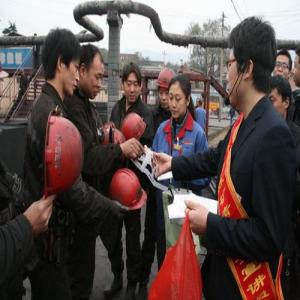none: (224, 14, 278, 114), (41, 26, 82, 102), (77, 41, 106, 103), (167, 73, 194, 122), (269, 75, 293, 123), (121, 59, 145, 105), (274, 48, 294, 86)
red: (156, 67, 177, 111)
